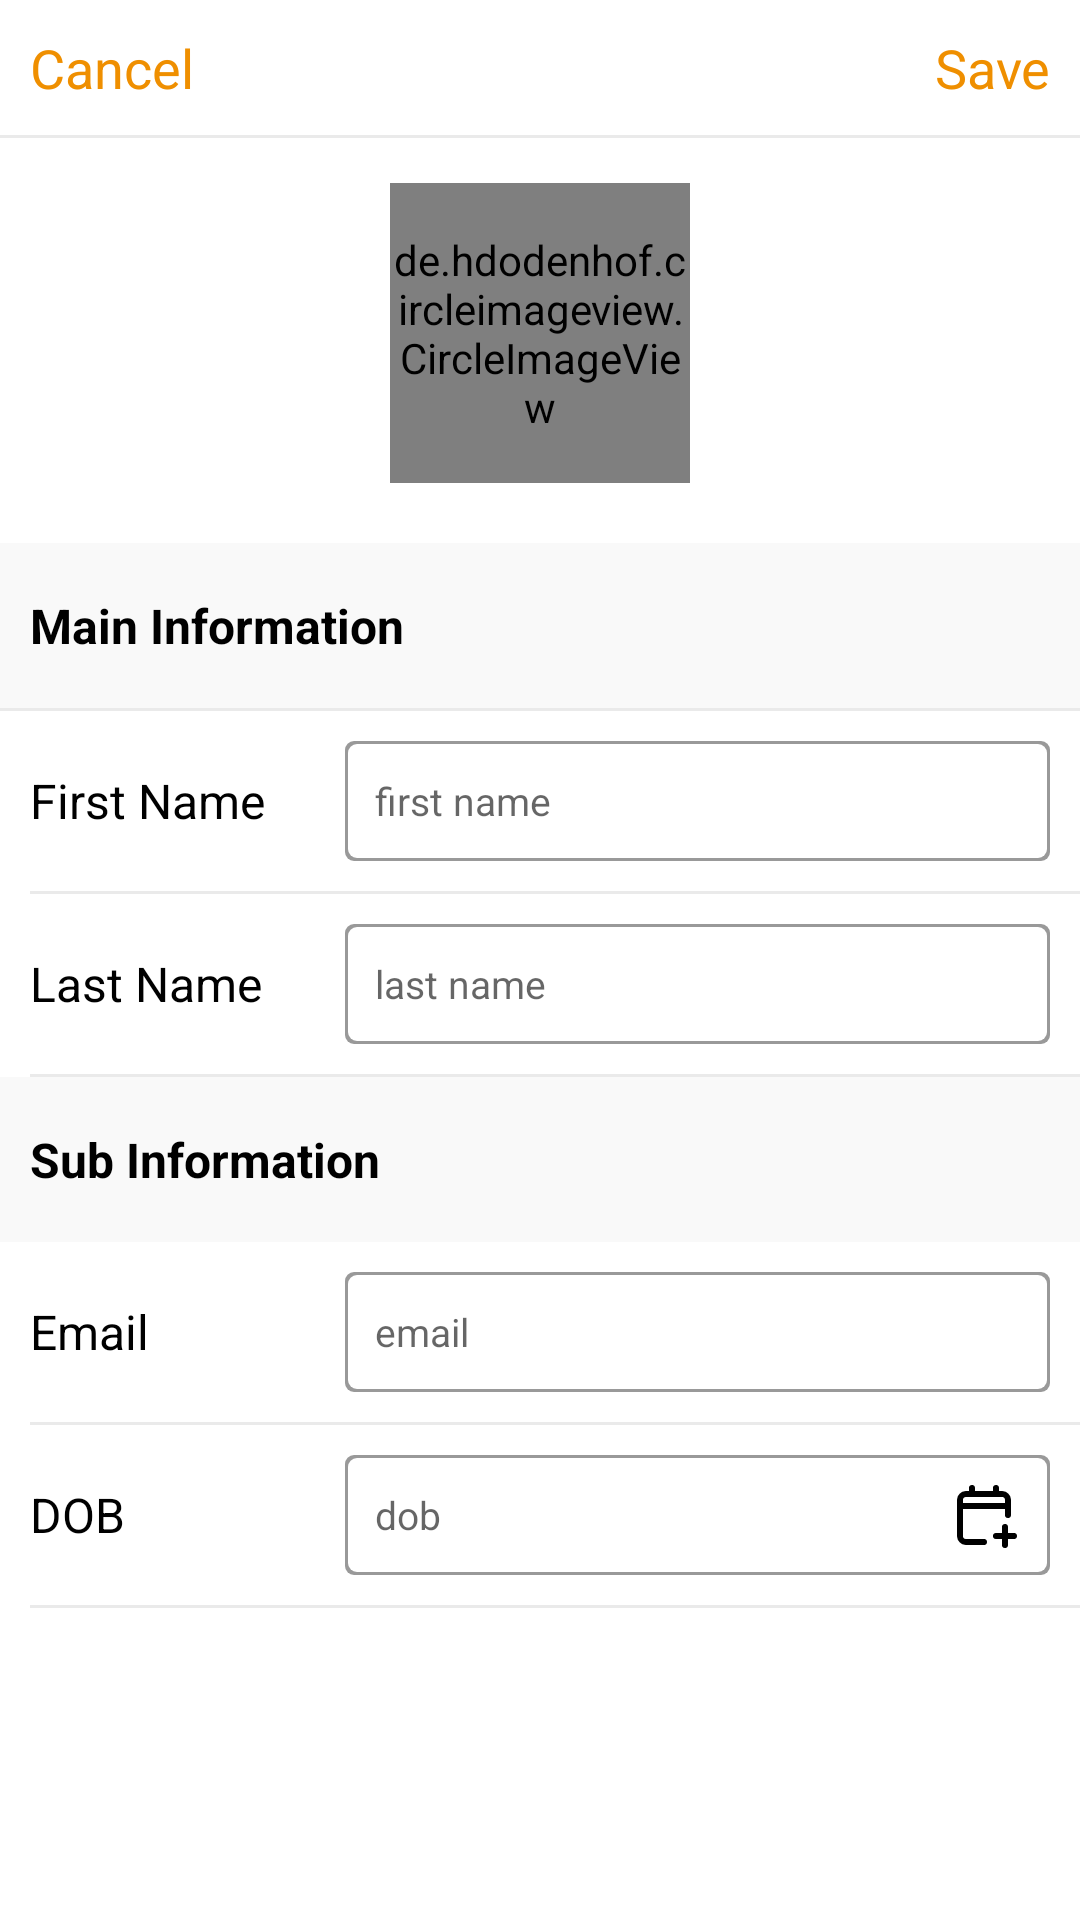

Where icons sit on this 1080px x 1920px app screen, as detection(x1, y1, x2, y2):
calendar: detection(957, 1485, 1017, 1548)
